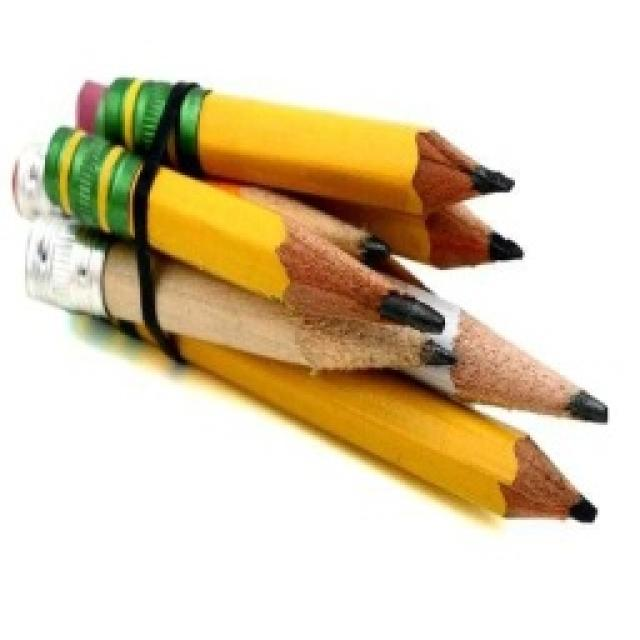pencil: (10, 70, 610, 528)
